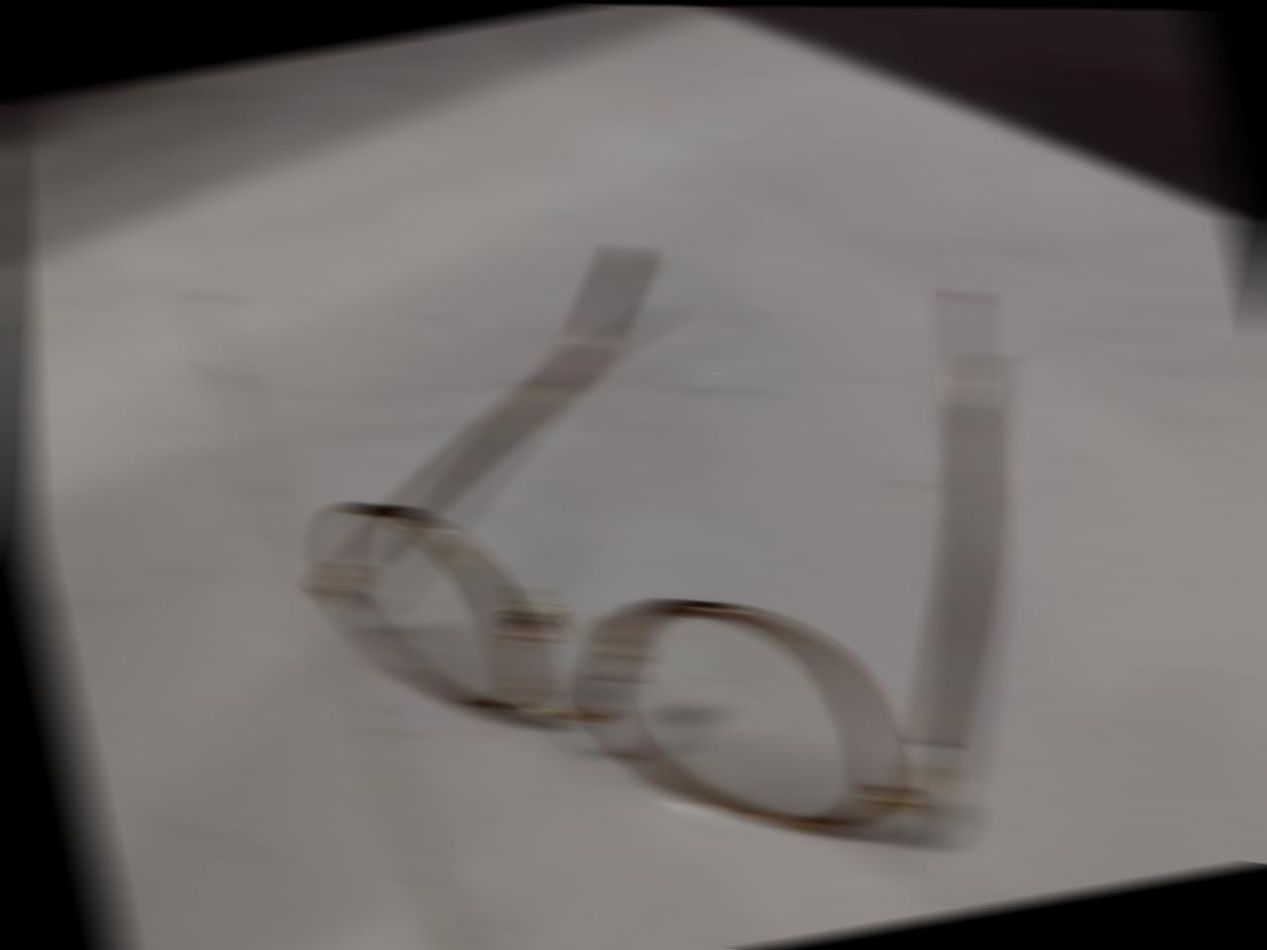glasses: (223, 174, 1111, 923)
